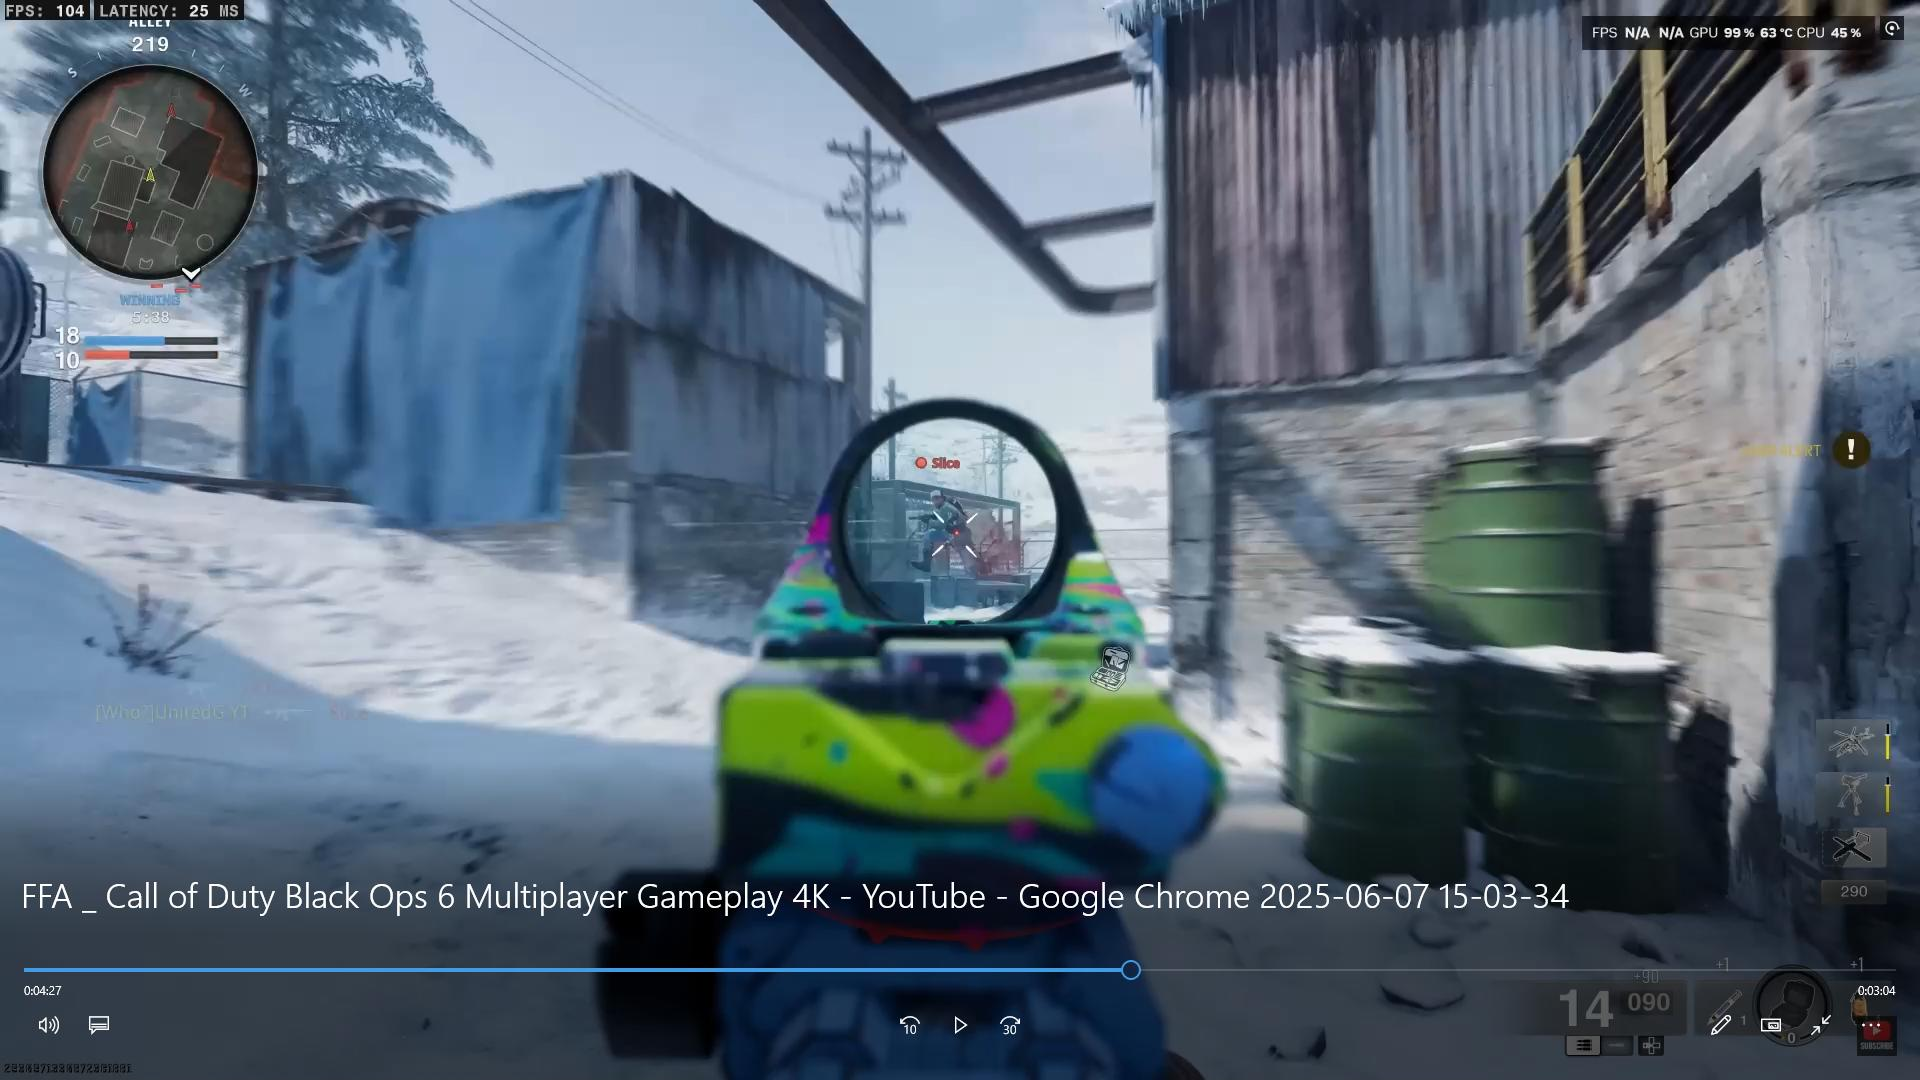Enemy: (913, 484, 989, 578)
